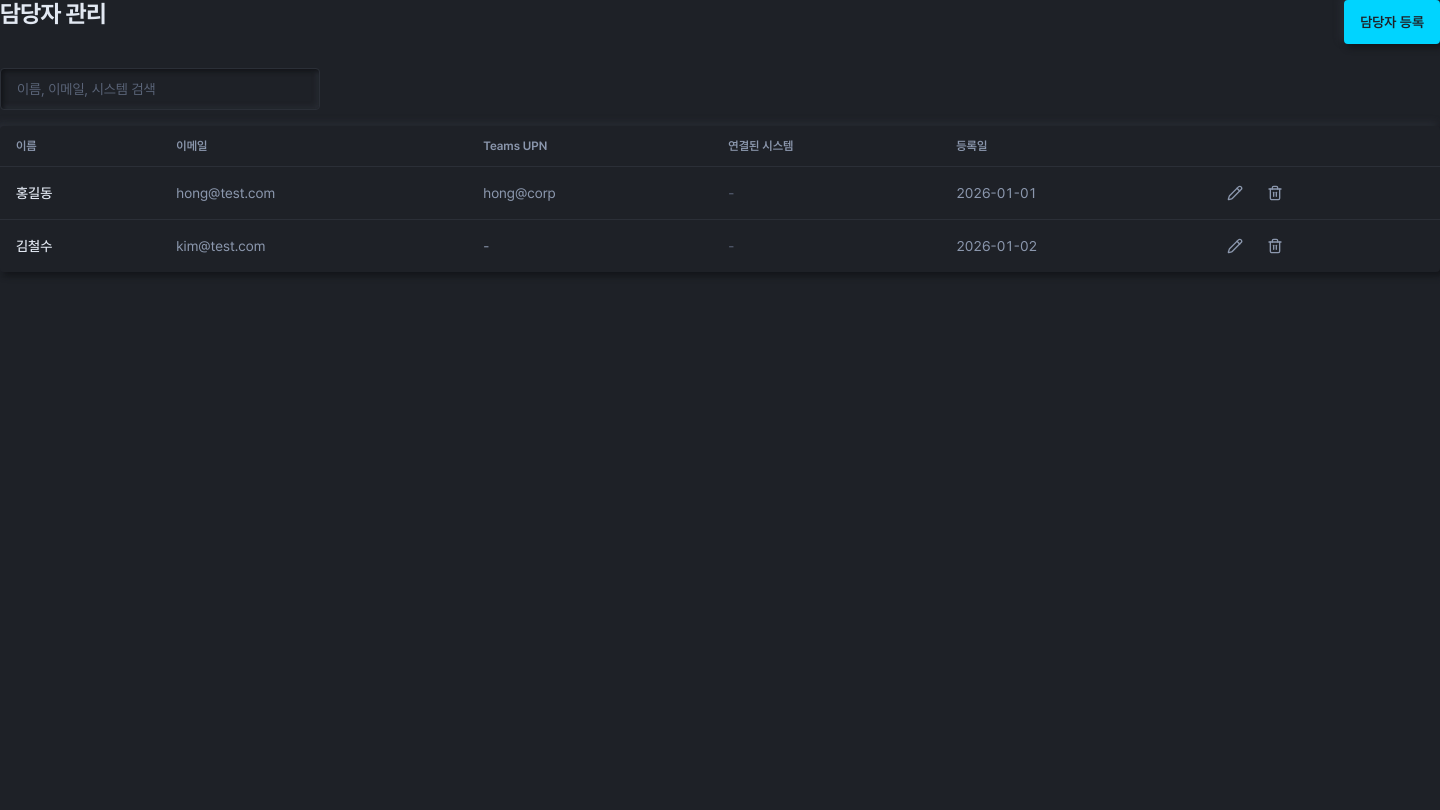
Scenario: ContactListPage › confirm 취소
Click the button named "삭제" in the row of "홍길동".
click(1275, 193)  # box [1261,179,1289,207]
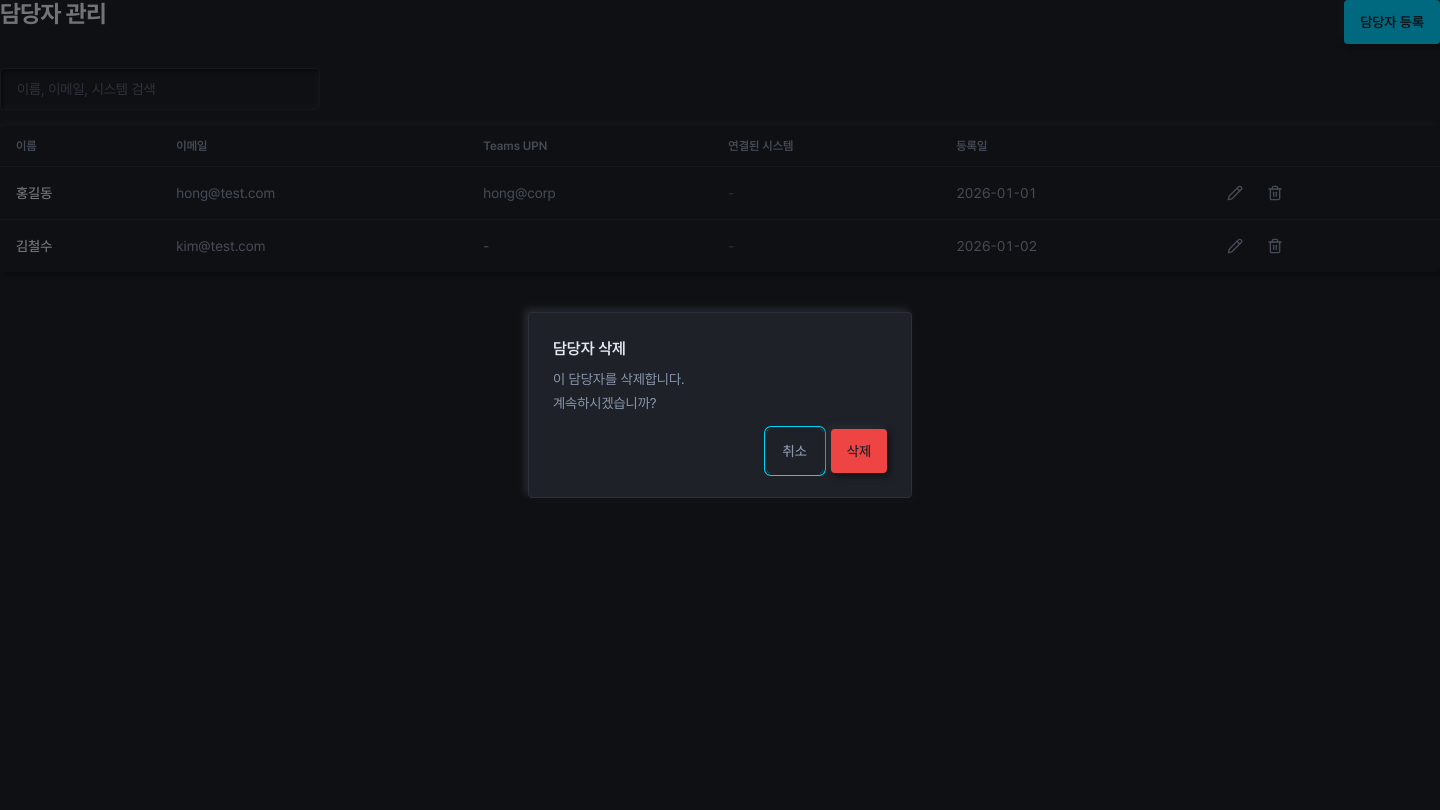
Click the button "취소".
click(795, 451)  # box [767,429,823,473]
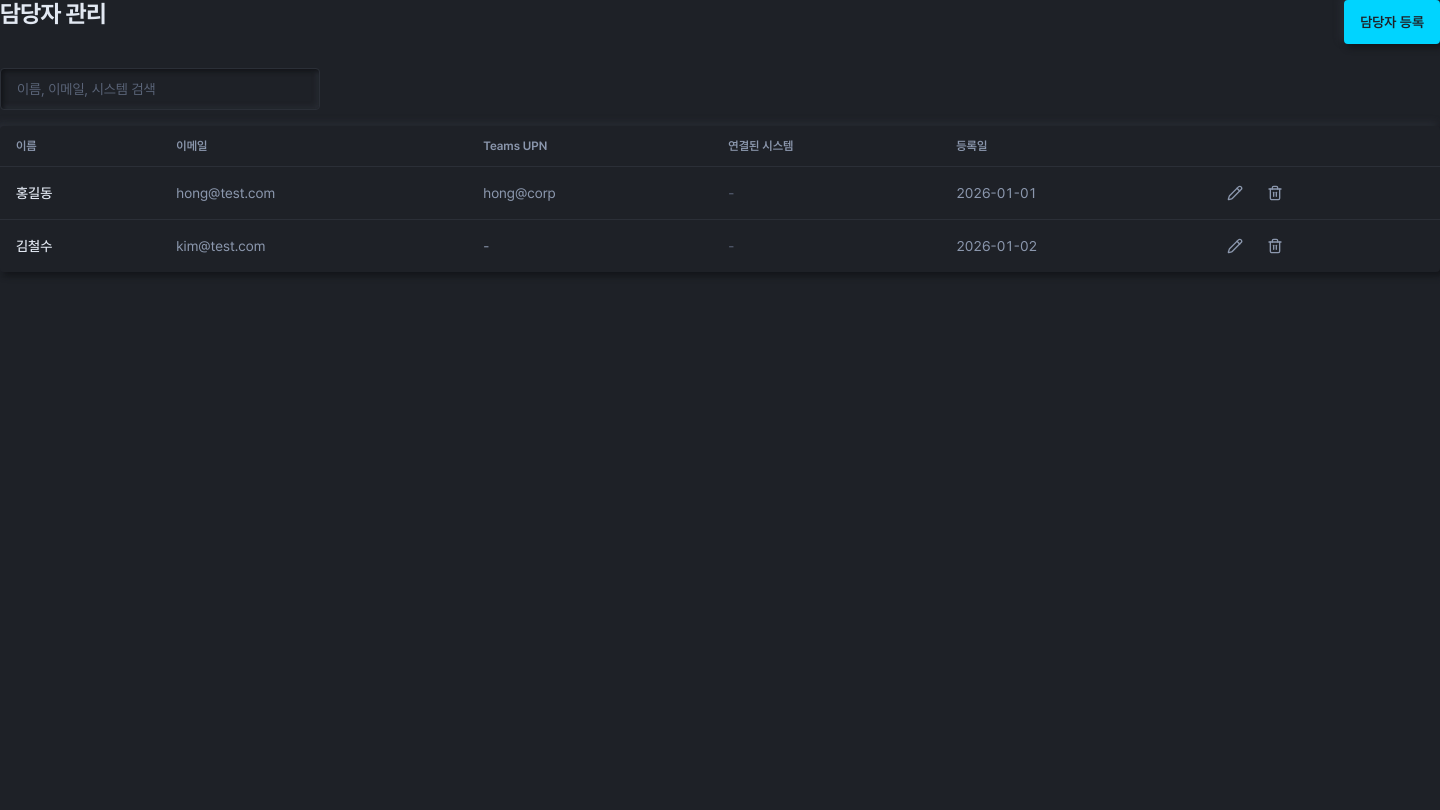
Expected: the heading "담당자 삭제" is gone
